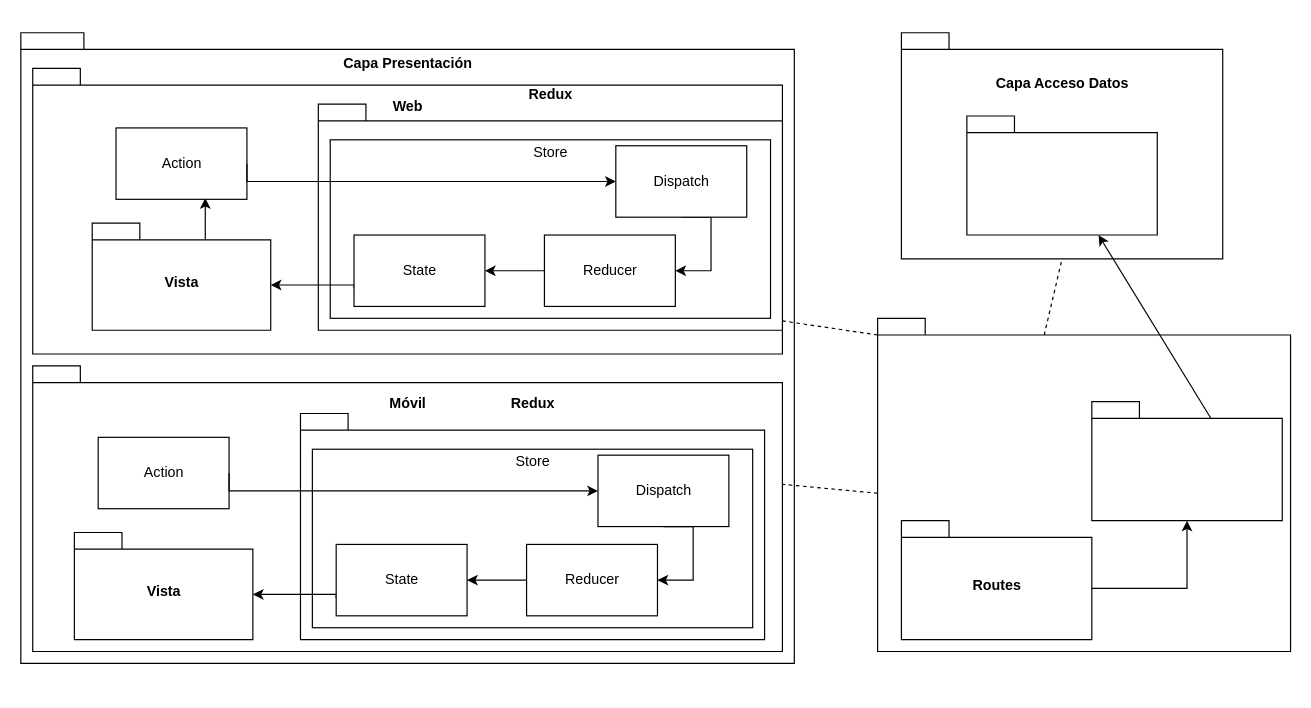
Some shapes in this 1311 by 708 pixel diagram are drawn without their labels. The box of each missing label's shape, as (x1, y1, x2, y2) in pixels:
Capa Lógica Negocio: (876, 317, 1291, 652)
Controllers: (1091, 400, 1282, 521)
Models: (966, 115, 1157, 235)
